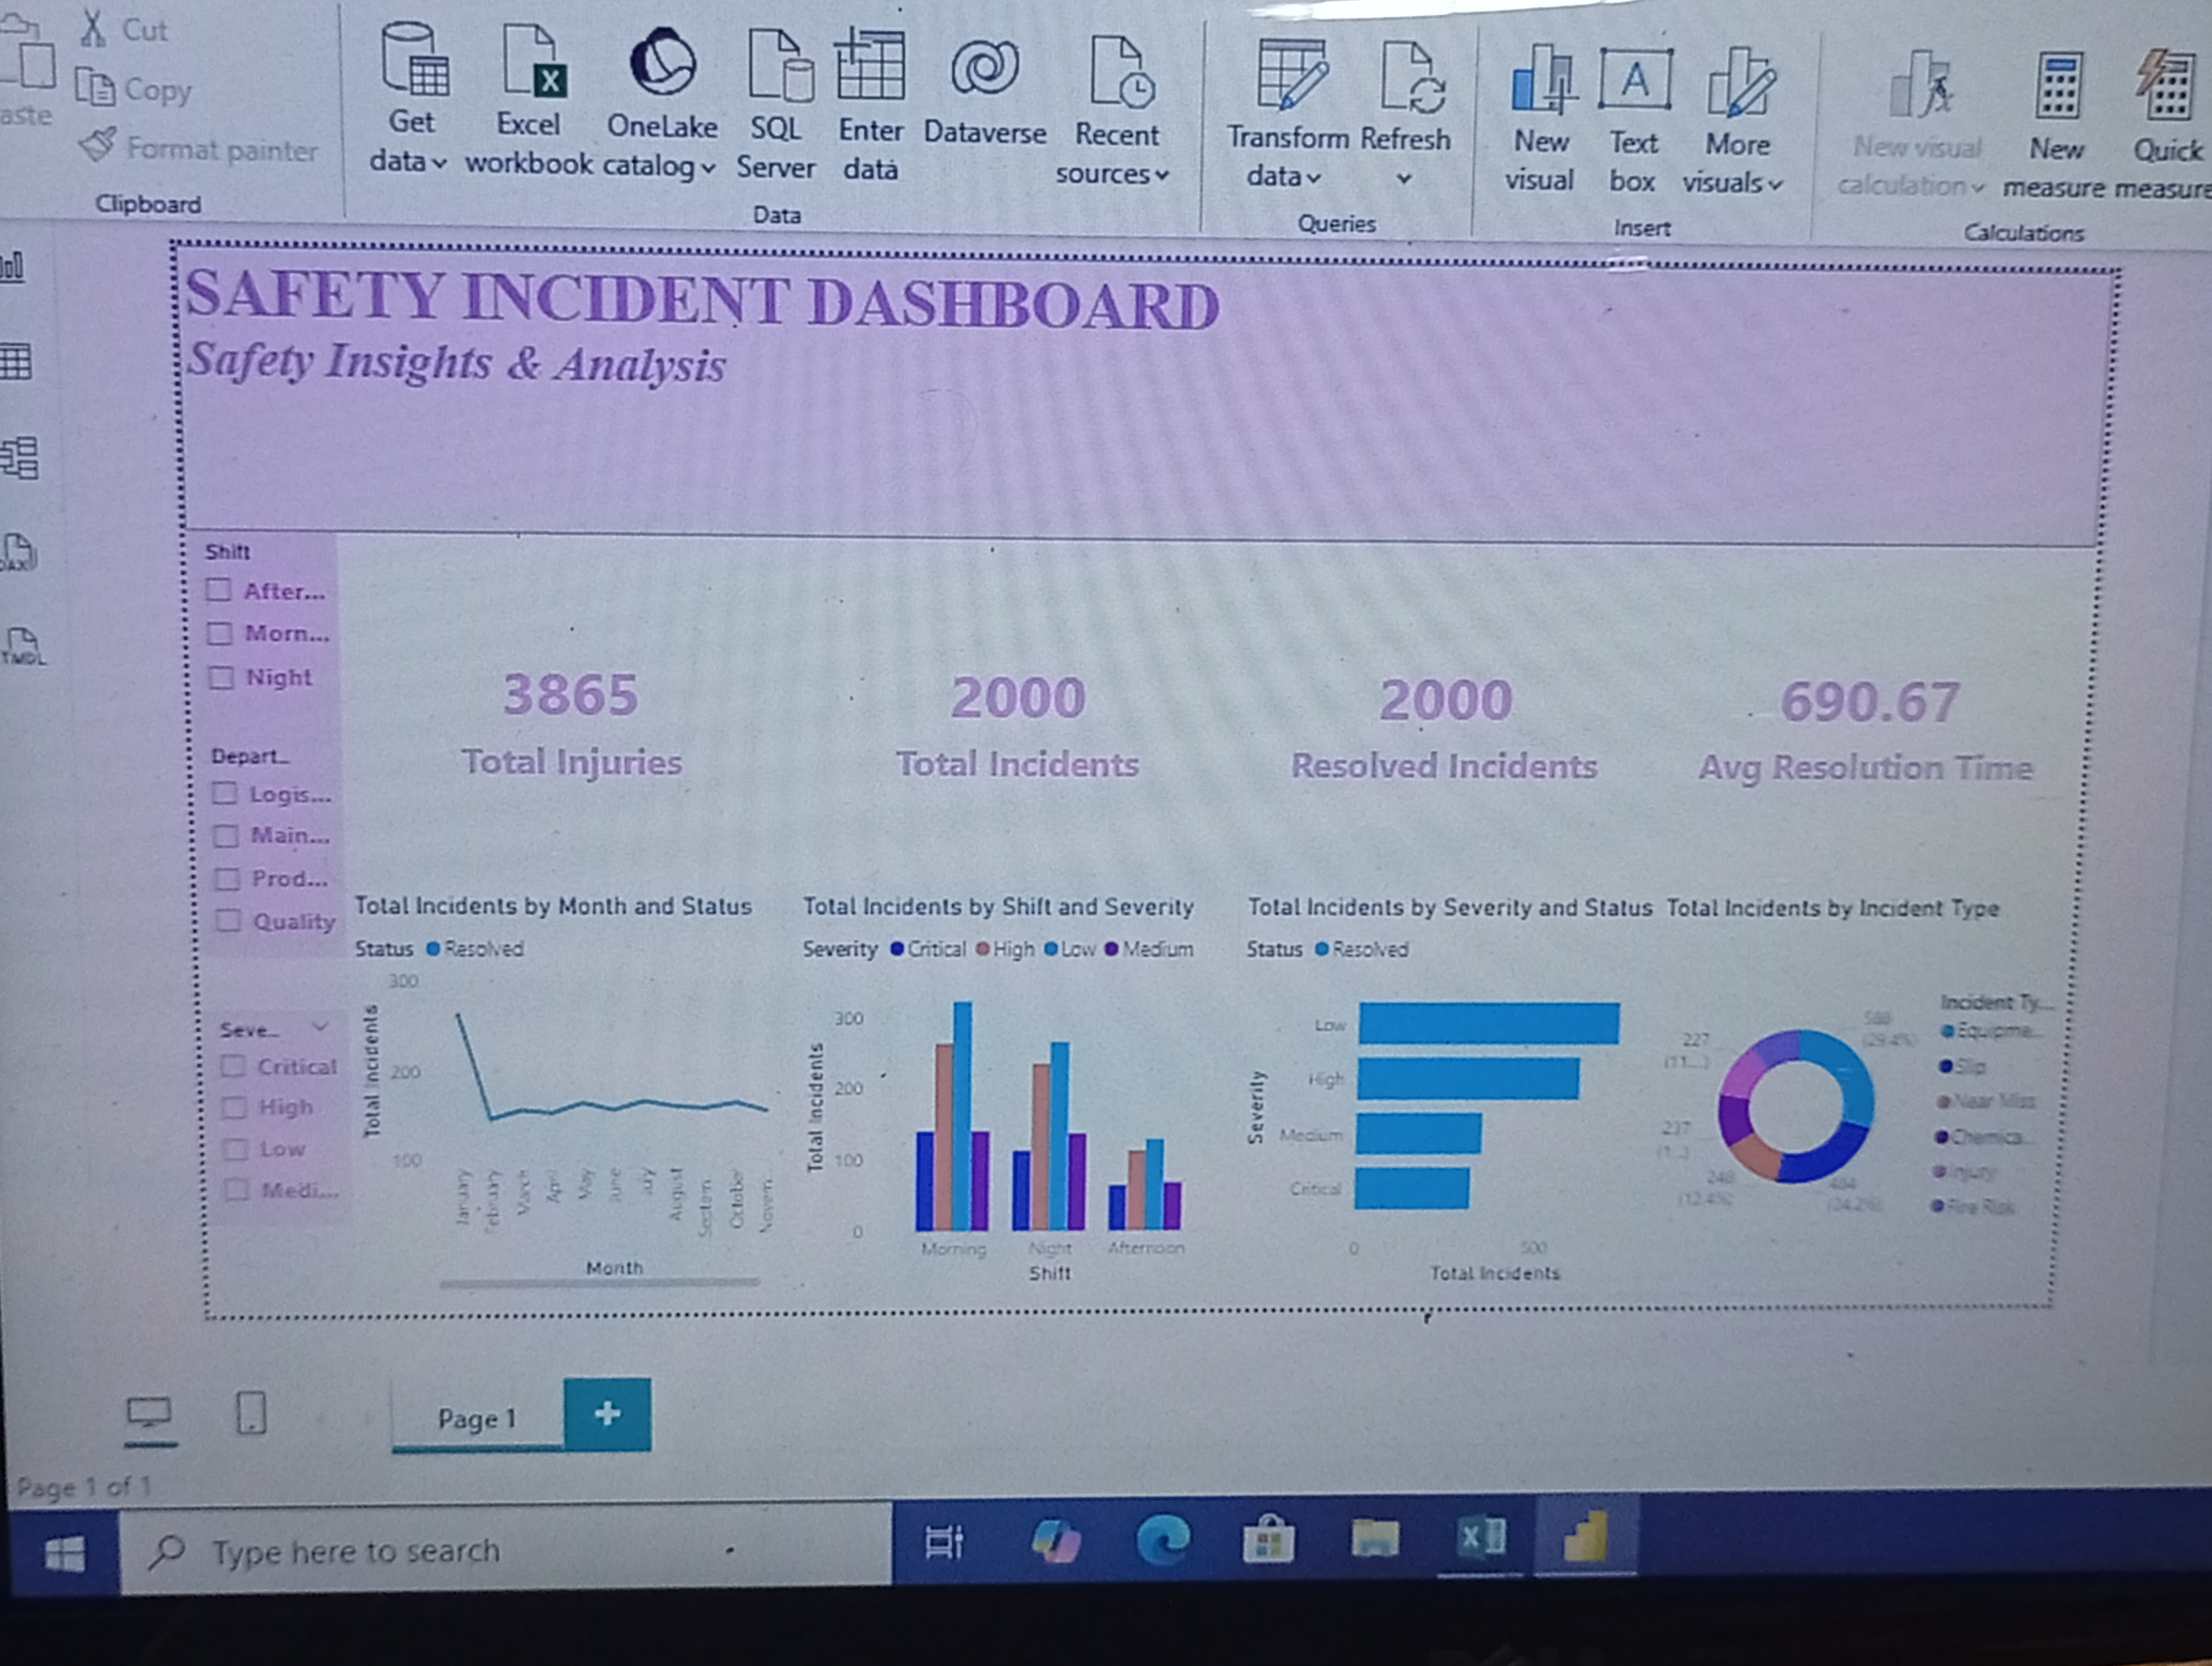

This screenshot's page, from the dashboard's own definition file:
{"tool":"powerbi","page":{"name":"Page 1","canvas":[1280,720],"ordinal":0},"visuals":[{"type":"card","fields":{"Values":["Cleanned Data.Resolved Incidents"]},"box":[697,184.3,280.8,240.5],"z":0},{"type":"card","fields":{"Values":["Cleanned Data.Total Incidents"]},"box":[397.4,184.3,299.5,240.5],"z":1000},{"type":"card","fields":{"Values":["Cleanned Data.Avg Resolution Time"]},"box":[977.8,184.3,301,240.5],"z":2000},{"type":"card","fields":{"Values":["Cleanned Data.Total Injuries"]},"box":[97.9,184.3,301,240.5],"z":3000},{"type":"slicer","fields":{"Values":["Cleanned Data.Shift"]},"box":[0,184.3,97.9,135.4],"z":4000},{"type":"slicer","fields":{"Values":["Cleanned Data.Department"]},"box":[0,319.7,97.9,149.8],"z":5000},{"type":"slicer","fields":{"Values":["Cleanned Data.Severity"]},"box":[0,505.4,97.9,149.8],"z":6000},{"type":"lineChart","fields":{"Category":["Cleanned Data.Date.Variation.Date Hierarchy.Month"],"Y":["Cleanned Data.Total Incidents"],"Series":["Cleanned Data.Status"]},"box":[97.9,424.8,301,283.7],"z":7000},{"type":"clusteredColumnChart","fields":{"Category":["Cleanned Data.Shift"],"Y":["Cleanned Data.Total Incidents"],"Series":["Cleanned Data.Severity"]},"box":[397.4,424.8,301,282.2],"z":8000},{"type":"clusteredBarChart","fields":{"Category":["Cleanned Data.Severity"],"Y":["Cleanned Data.Total Incidents"],"Series":["Cleanned Data.Status"]},"box":[699.8,424.8,301,283.7],"z":9000},{"type":"donutChart","fields":{"Y":["Cleanned Data.Total Incidents"],"Category":["Cleanned Data.Incident Type"]},"box":[989.3,424.8,290.9,283.7],"z":10000},{"type":"textbox","box":[0,0,1278.7,184.3],"z":11000},{"type":"shape","box":[0,0,1278.7,184.3],"z":12000}]}

Visuals, with their boxes on the page's 1280x720 design canvas (x1, y1, x2, y2). These are canvas units, not pixel positions in the 2212x1666 screenshot, which may show the page scaled, cropped or inside an application window:
card - Cleanned Data.Resolved Incidents: [697,184,978,425]
card - Cleanned Data.Total Incidents: [397,184,697,425]
card - Cleanned Data.Avg Resolution Time: [978,184,1279,425]
card - Cleanned Data.Total Injuries: [98,184,399,425]
slicer - Cleanned Data.Shift: [0,184,98,320]
slicer - Cleanned Data.Department: [0,320,98,470]
slicer - Cleanned Data.Severity: [0,505,98,655]
lineChart - Cleanned Data.Date.Variation.Date Hierarchy.Month x Cleanned Data.Total Incidents: [98,425,399,708]
clusteredColumnChart - Cleanned Data.Shift x Cleanned Data.Total Incidents: [397,425,698,707]
clusteredBarChart - Cleanned Data.Severity x Cleanned Data.Total Incidents: [700,425,1001,708]
donutChart - Cleanned Data.Total Incidents x Cleanned Data.Incident Type: [989,425,1280,708]
textbox: [0,0,1279,184]
shape: [0,0,1279,184]
